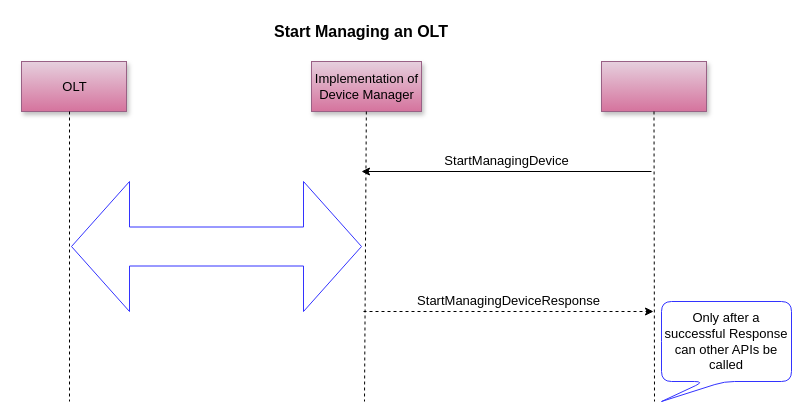
The diagram is 809 pixels wide and 420 high, and some of its shapes have lost their labels. The centre of each missing label's shape, as x and y in pixels:
Operator NEM: point (654, 87)
Setup connection with OLT: point (216, 246)
